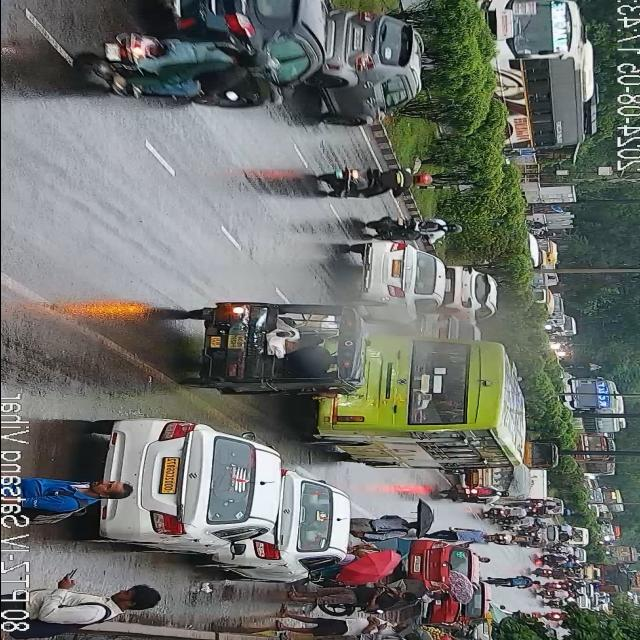2-wheelers: (86, 38, 283, 97), (314, 158, 430, 205), (364, 213, 459, 247), (516, 518, 576, 552), (494, 498, 560, 520), (446, 478, 501, 504), (538, 580, 582, 610), (532, 548, 586, 572), (482, 576, 538, 588), (503, 148, 541, 156)
auto: (182, 295, 372, 397), (348, 234, 448, 326), (445, 260, 495, 320), (462, 466, 530, 495), (523, 440, 558, 470)
bus: (306, 338, 534, 476), (482, 0, 595, 149), (557, 374, 621, 432), (592, 489, 628, 515)
car: (91, 420, 281, 560), (153, 0, 330, 124), (319, 0, 427, 128), (234, 472, 350, 580), (412, 538, 490, 637)
pedestrian: (31, 576, 156, 624), (279, 607, 417, 635), (281, 582, 421, 608), (20, 475, 130, 506), (350, 510, 420, 538), (282, 630, 436, 640), (438, 528, 498, 542), (344, 550, 380, 564), (426, 590, 448, 602)
truck: (572, 433, 616, 472)
